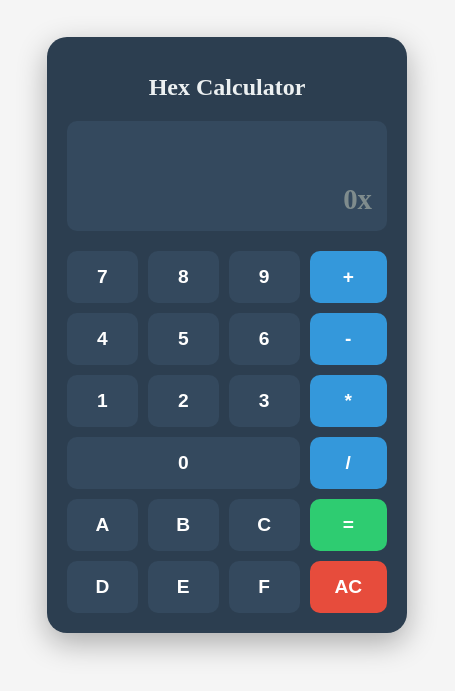
Test: HexCalculator › should handle division by zero
Click the button with test id "button-A": click(103, 525) [67,499,138,551]
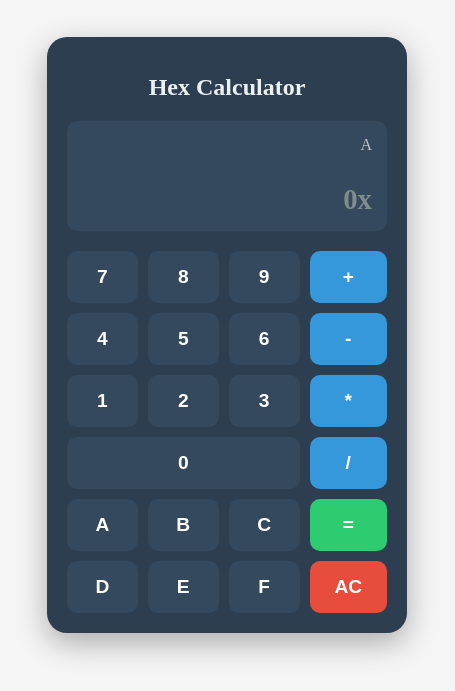
Click the button with test id "button-/": click(349, 463) [310,437,388,489]
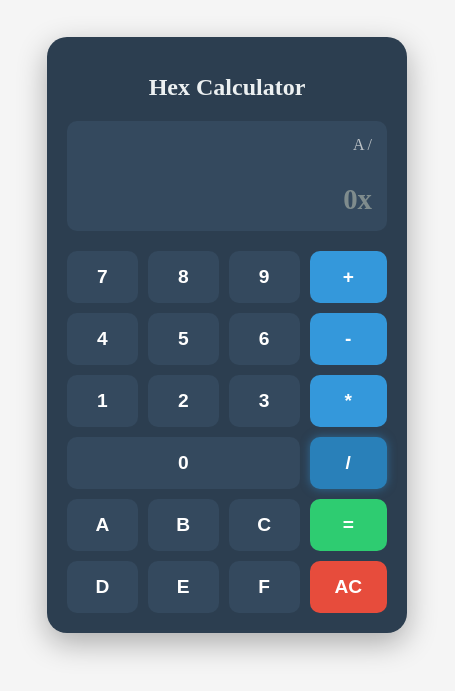
Click the button with test id "button-0": click(184, 463) [67,437,300,489]
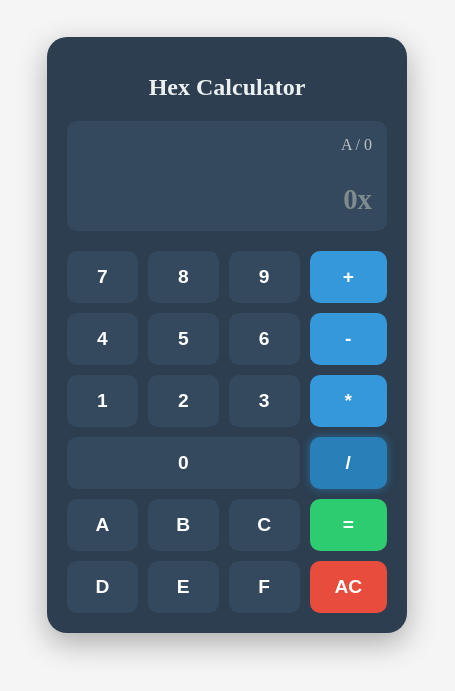
Click the button with test id "button-equals": click(349, 525) [310,499,388,551]
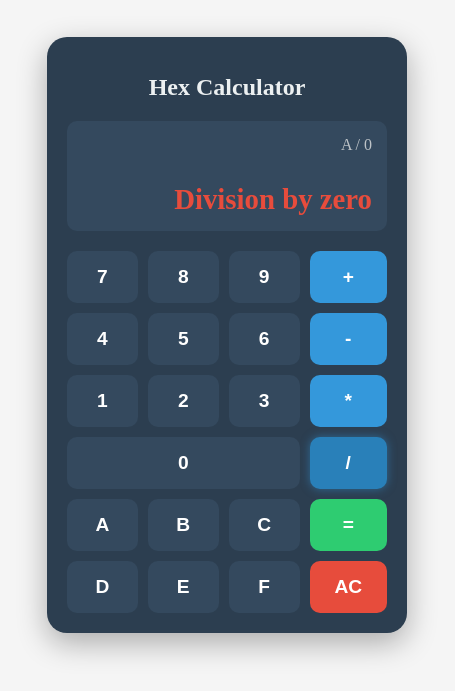
Expected: the text "Division by zero" is shown, [174,182,372,214]
